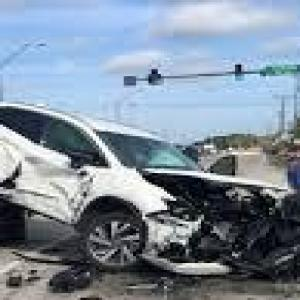serious: (0, 92, 300, 288)
